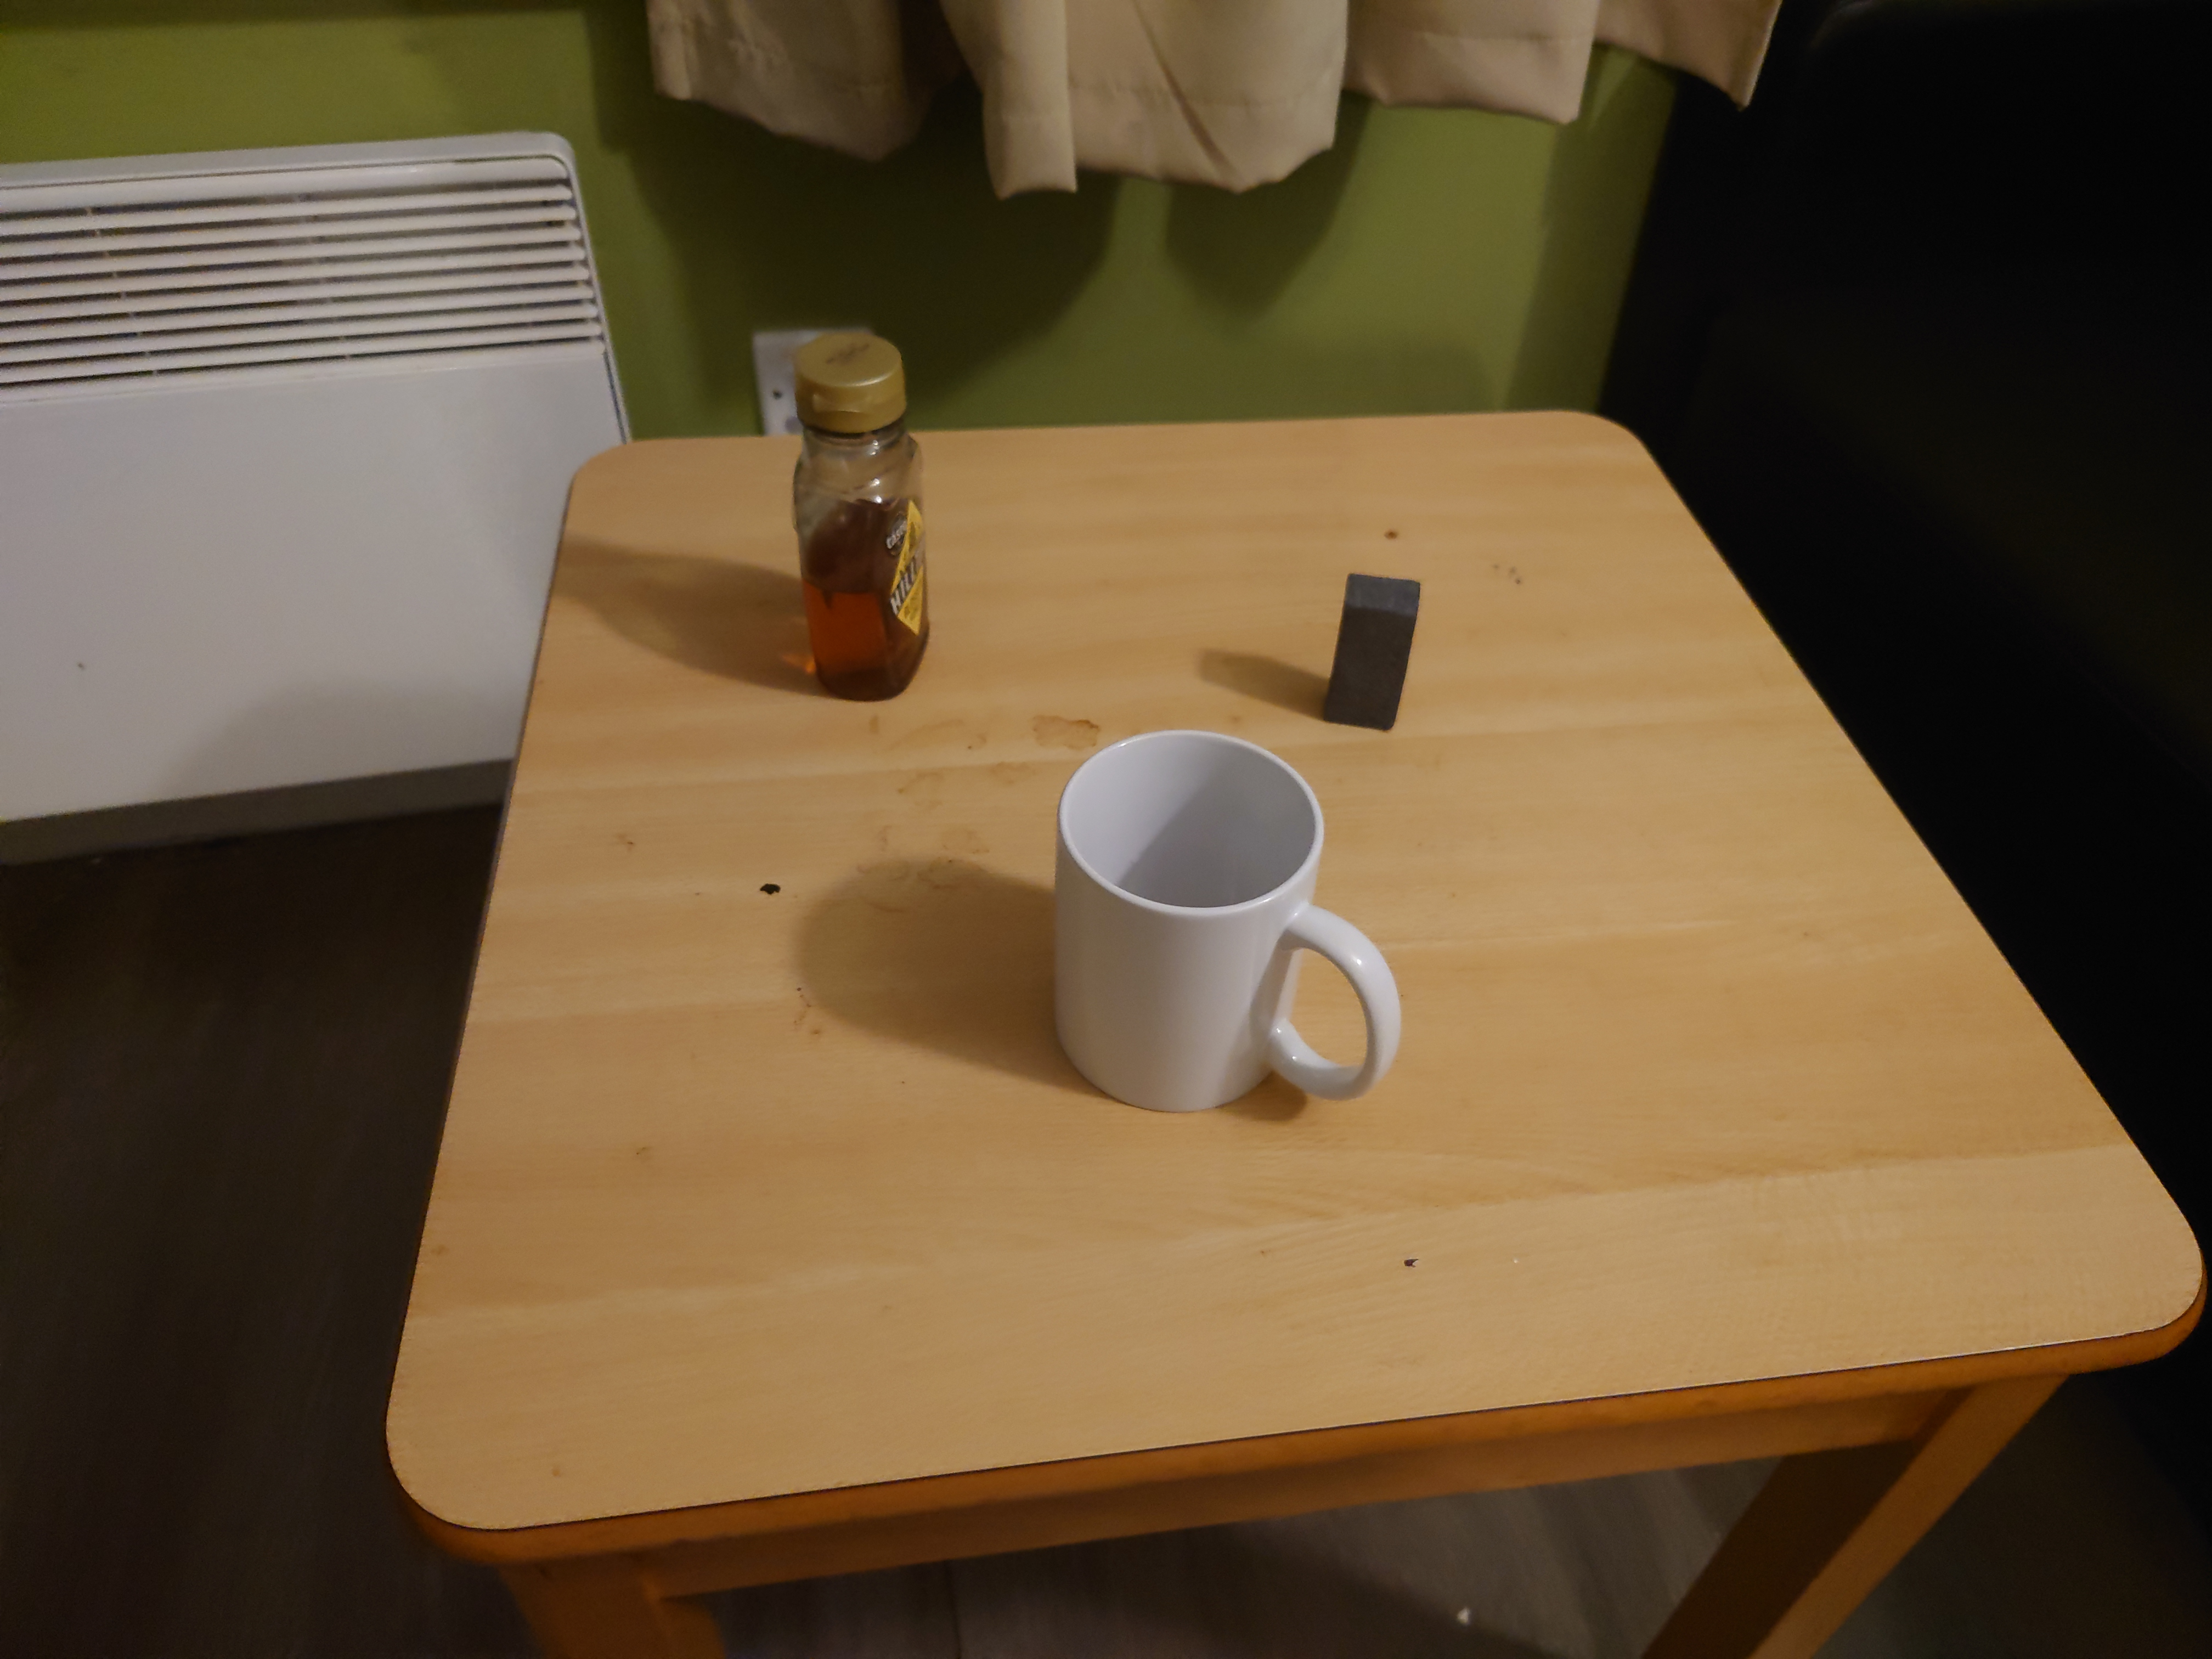cup: (1047, 725, 1404, 1115)
target: (1325, 573, 1418, 730)
